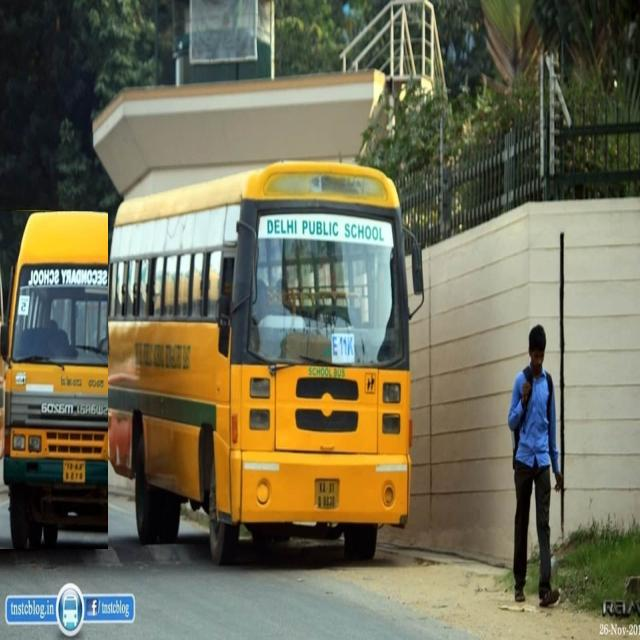bus: (105, 162, 426, 564), (0, 211, 108, 549)
